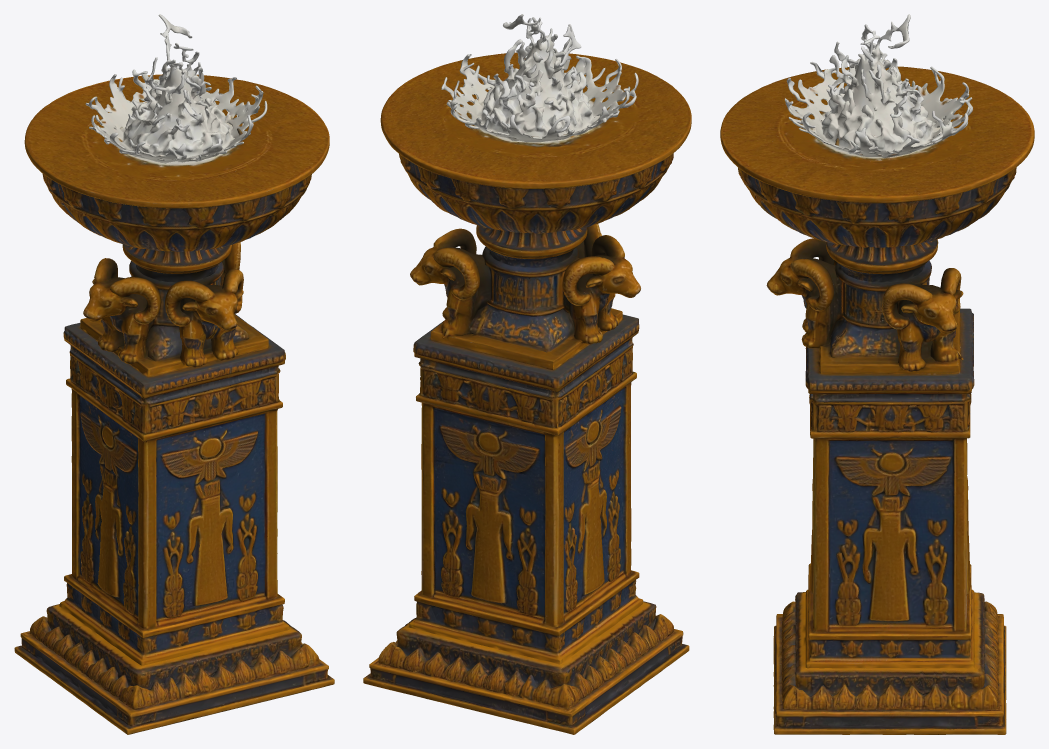
Rendered from المباخر.glb.
3 renders of one model, left to right at view 1: azimuth 30°, elevation 25°; view 2: azimuth 150°, elevation 25°; view 3: azimuth 270°, elevation 25°, orthographic. The views are drawn at different scales.
Visible parts, largest first — view 1: world; view 2: world; view 3: world.
Part boxes in pixels (x1,y1,x2,y2): world: (14,14,334,734); world: (363,14,691,734); world: (720,14,1034,734).
Size of the model in its own units: 0.4251 by 1 by 0.4275.
1 material, 1 textured.
